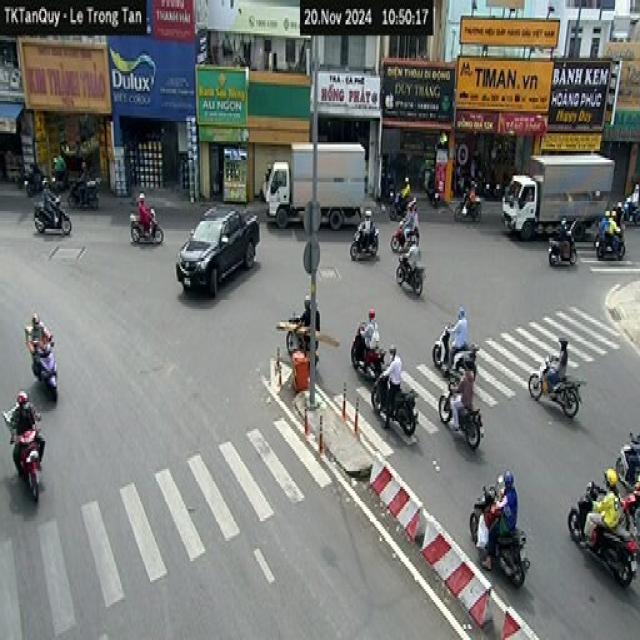car: (175, 203, 263, 298)
motorcycle: (565, 476, 640, 598), (469, 476, 534, 591), (529, 349, 585, 426), (372, 362, 422, 445), (438, 378, 485, 457), (12, 426, 46, 510), (430, 322, 479, 378), (350, 322, 386, 380), (31, 196, 74, 244), (34, 341, 63, 410), (127, 205, 166, 251)
person: (496, 465, 520, 540), (599, 467, 626, 531), (10, 388, 39, 434), (458, 353, 478, 408), (364, 307, 381, 362), (453, 302, 472, 350), (386, 337, 402, 392), (554, 331, 571, 381), (28, 312, 50, 349), (135, 190, 152, 224), (40, 171, 55, 208)
truck: (258, 130, 372, 234), (501, 147, 616, 250)
